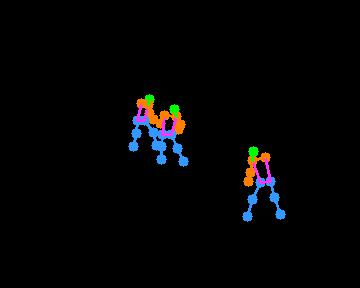normal: (123, 90, 197, 173), (239, 143, 286, 229)
